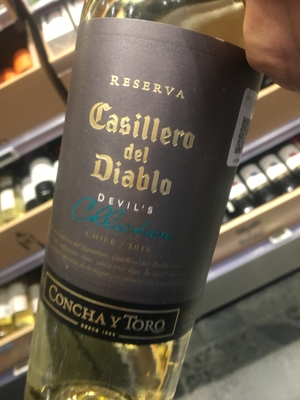casillero del diablo devils collection verde: (33, 18, 267, 400)
